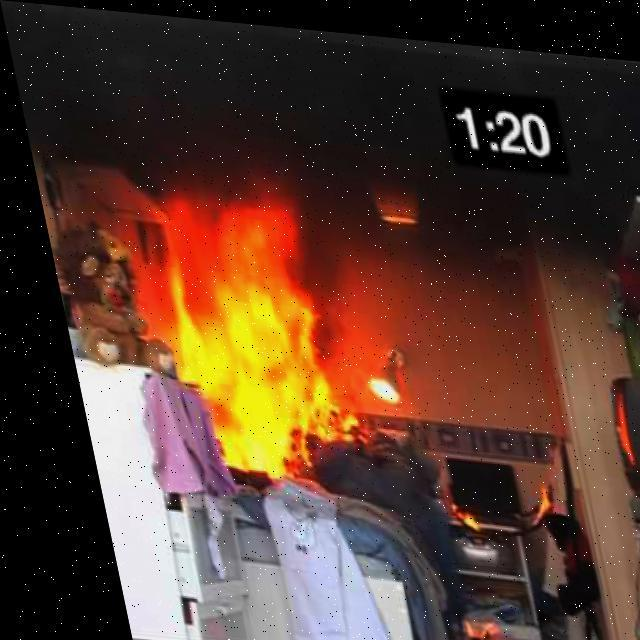Fire: (129, 163, 354, 487)
